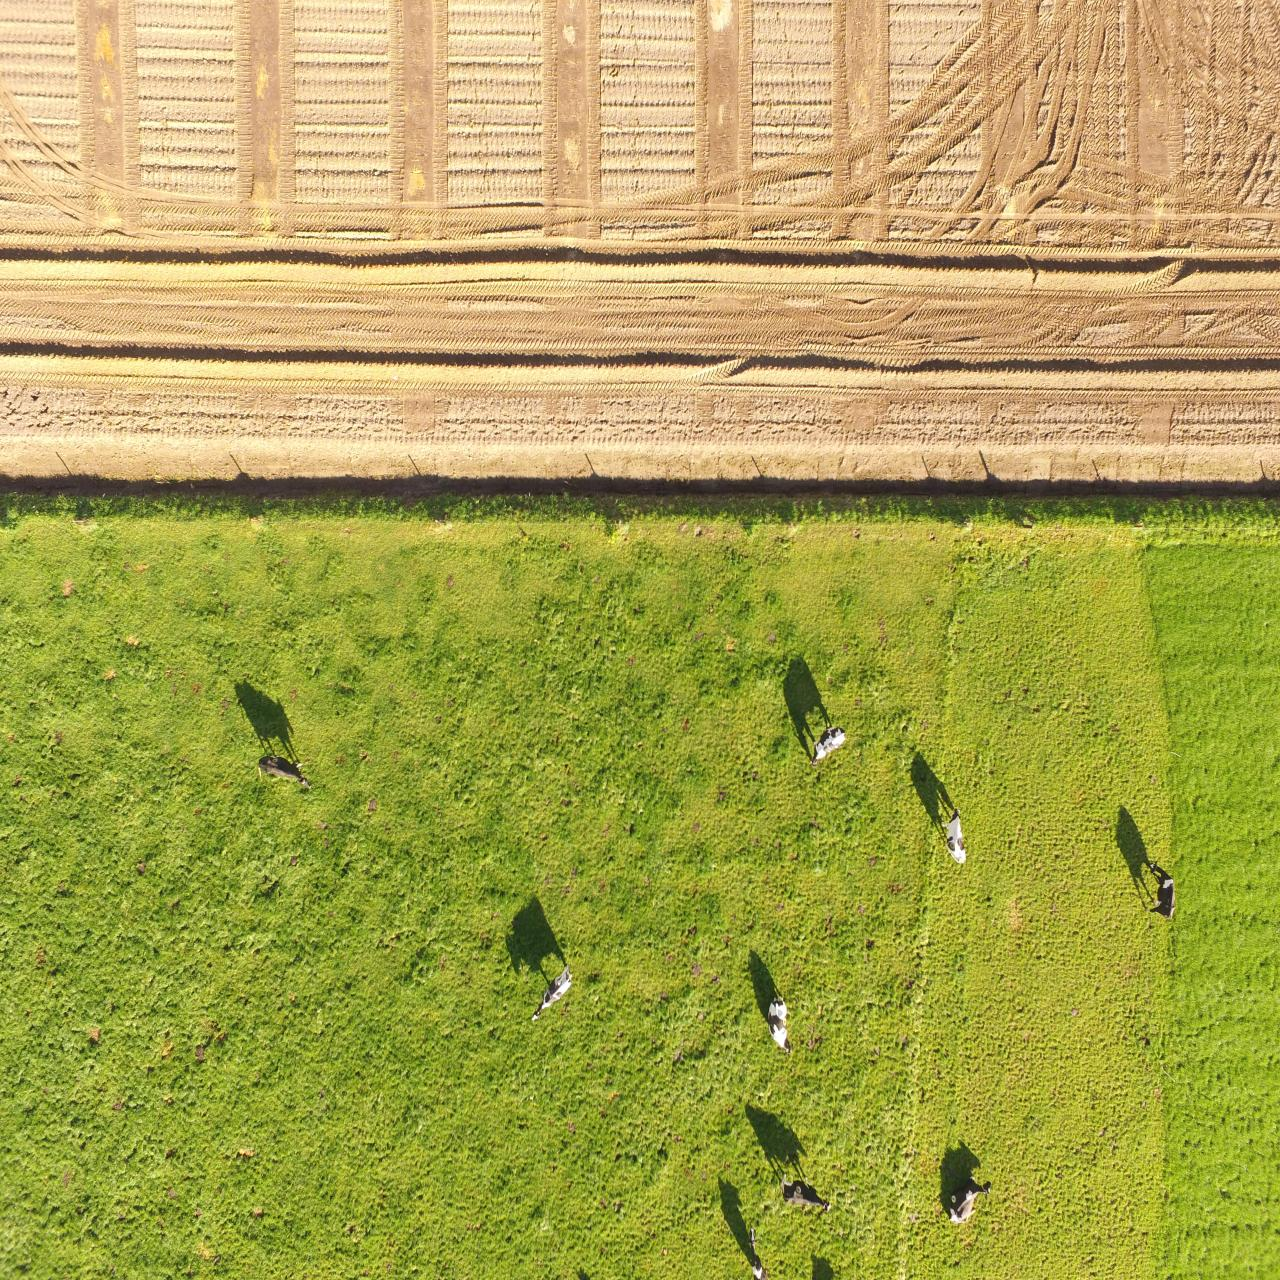cow: (254, 754, 315, 796), (1143, 853, 1180, 920), (941, 1178, 994, 1225), (531, 967, 577, 1014), (779, 1173, 832, 1210), (764, 990, 794, 1054), (738, 1224, 768, 1280), (945, 805, 971, 869), (804, 723, 849, 760)
